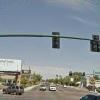traffic lights: (89, 33, 100, 52), (52, 33, 61, 51)
